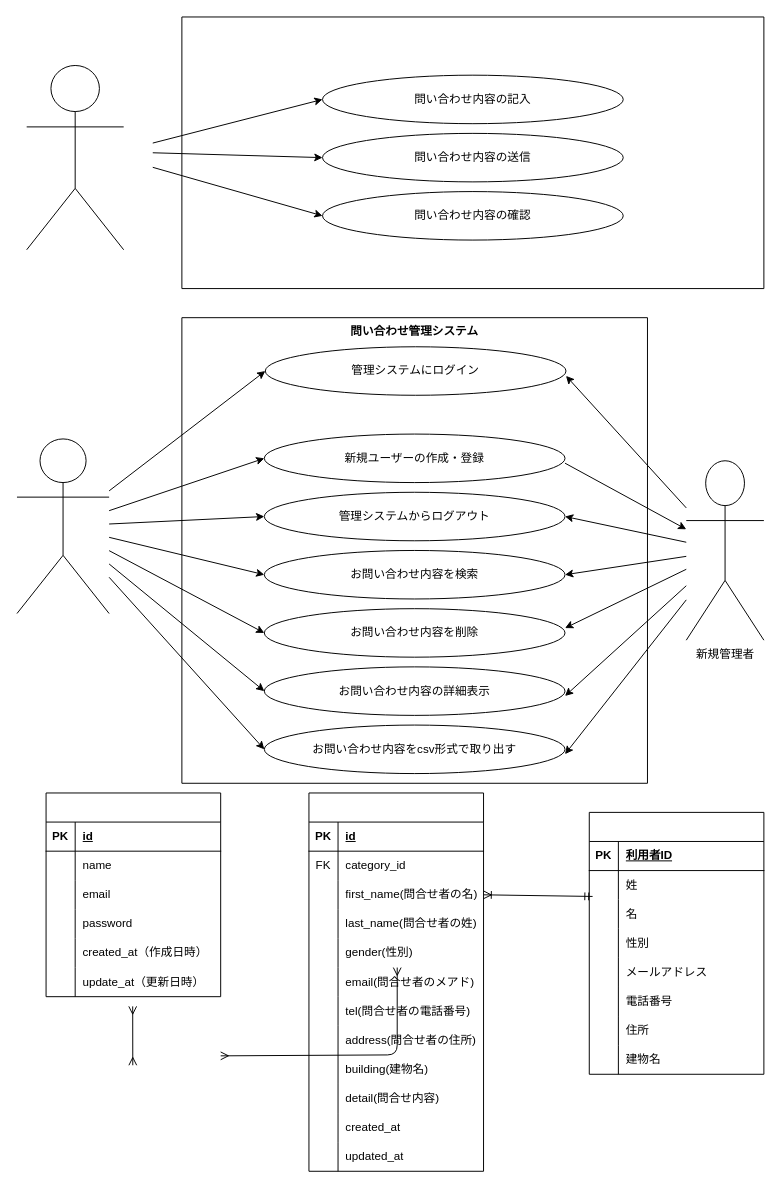
Some shapes in this 781 by 1188 pixel diagram are drawn without their labels. The box of each missing label's shape, as (x1, y1, x2, y2) in pixels:
categories: (588, 811, 764, 1074)
contacts: (308, 792, 484, 1171)
users: (45, 792, 221, 997)
利用者: (26, 65, 124, 250)
問い合わせ送信システム: (181, 16, 764, 289)
管理者: (16, 438, 109, 614)
